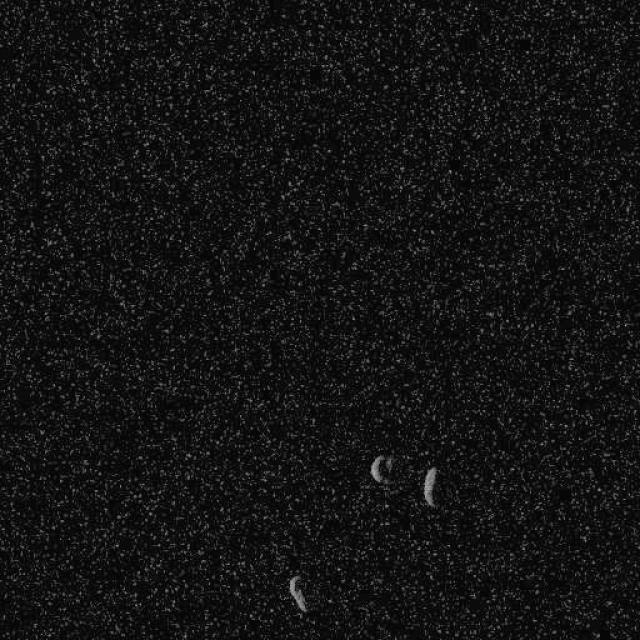D2: (368, 452, 394, 483), (288, 574, 308, 614), (422, 465, 438, 507)
